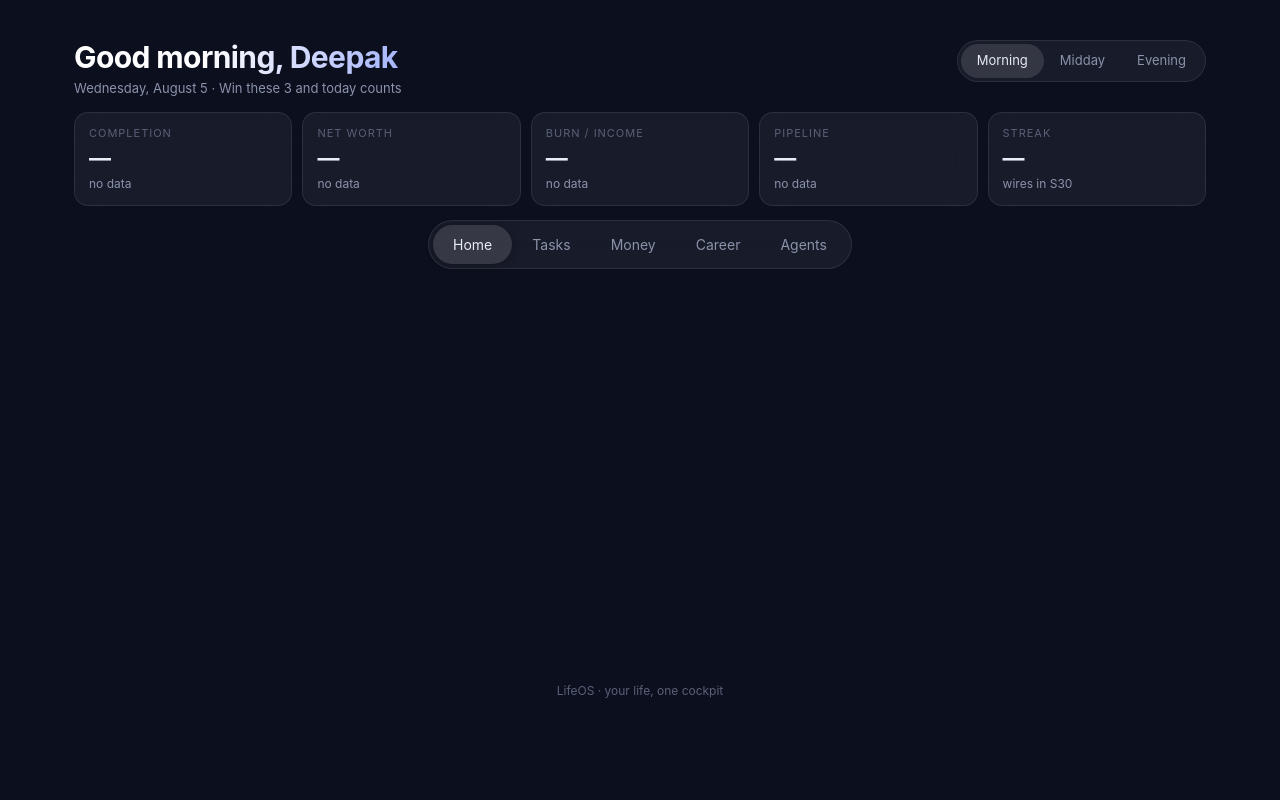
Test case: S24 cockpit shell › defaults to Home, with the v1 capture flow still reachable on the Tasks tab
Expected: the text "+ New task" is not shown
What coordinates should you click on to do the following:
click the button "Tasks"
I would click on:
 (551, 244)
Its box is x1=512 y1=224 x2=591 y2=264.
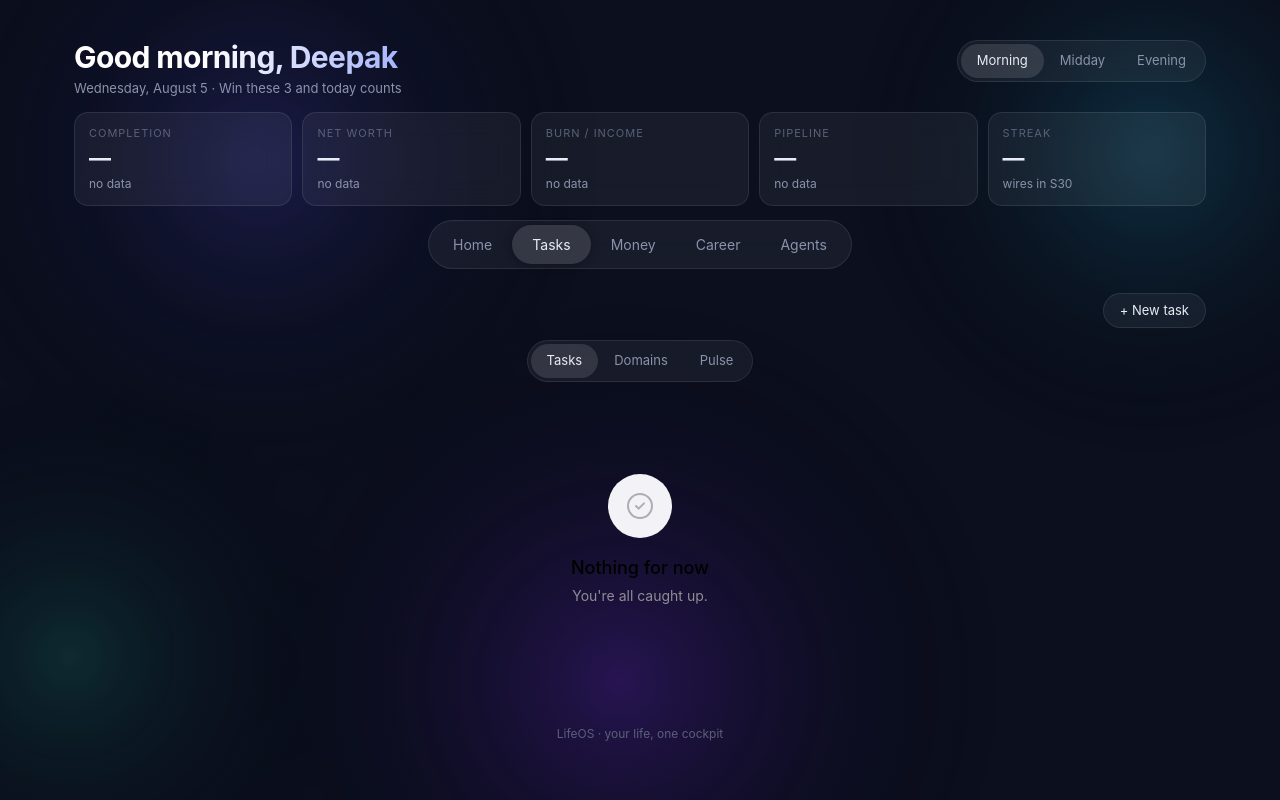
Expected: the button "+ New task" is shown, x1=1103 y1=292 x2=1206 y2=328
